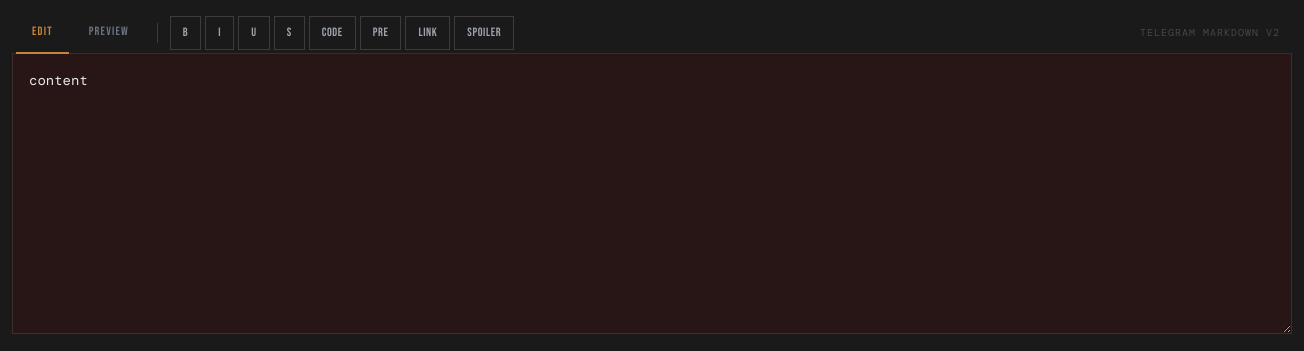
Test case: PublicationEditor — disabled state › disables formatting buttons when in PREVIEW mode even if not disabled
Click the button "PREVIEW": (109, 33) [73,12,145,54]
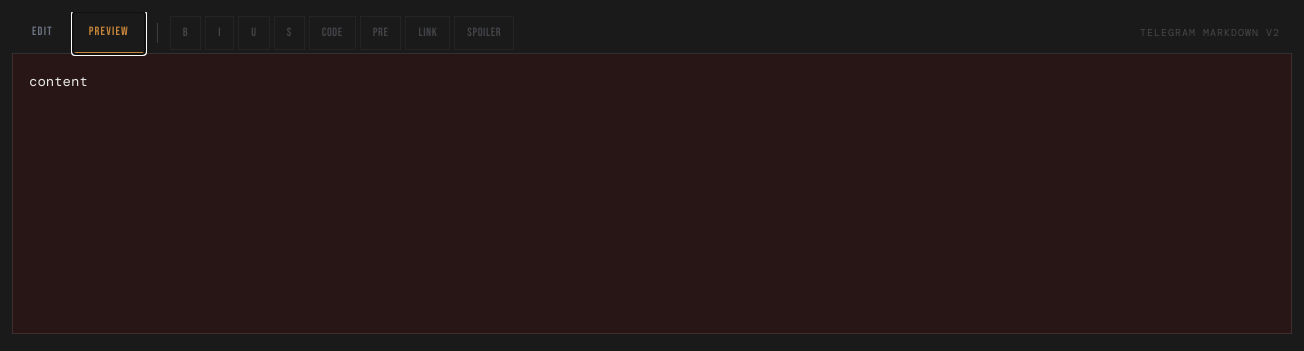
Expected: the button "I" is disabled, [205,16,234,50]
Now the button "B" is disabled, box [170,16,201,50]
